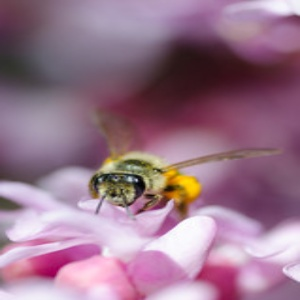bee: (92, 151, 202, 220)
